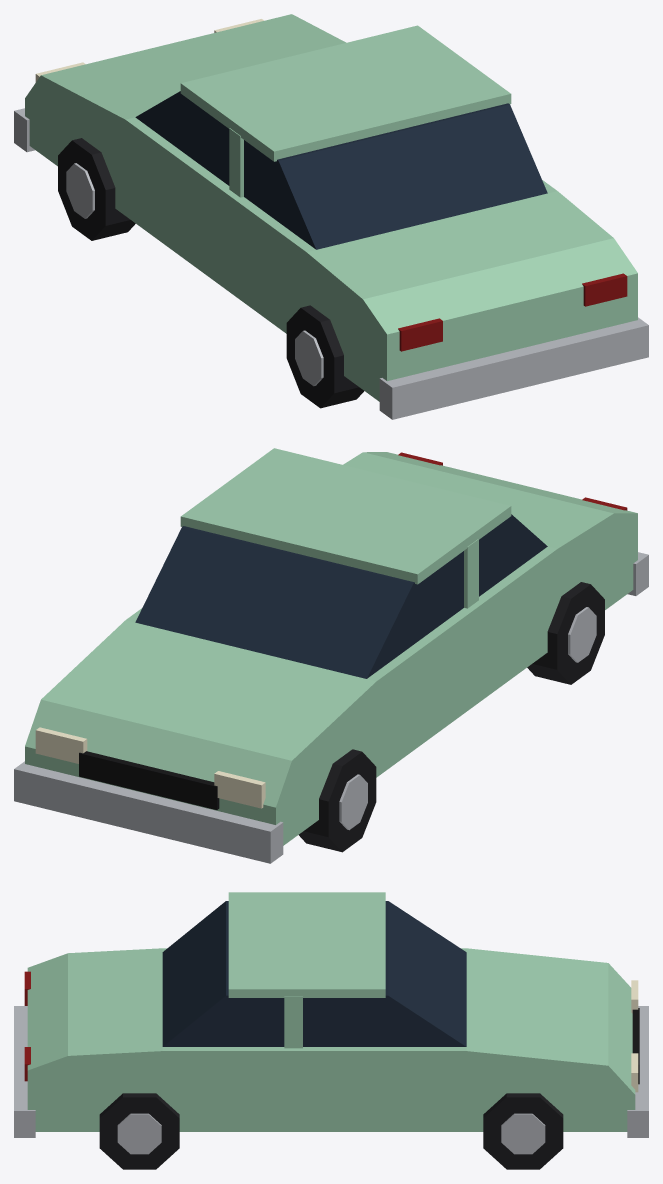
Rendered from CarSedanMint.obj.
The picture shows the model from 3 angles, top to bottom: view 1: azimuth 30°, elevation 25°; view 2: azimuth 150°, elevation 25°; view 3: azimuth 270°, elevation 25°; orthographic projection. The views are drawn at different scales.
Visible parts, largest first — view 1: CarSedanMint; view 2: CarSedanMint; view 3: CarSedanMint.
Part boxes in pixels (x1,y1,x2,y2): CarSedanMint: (14, 14, 648, 419); CarSedanMint: (14, 448, 648, 863); CarSedanMint: (14, 892, 648, 1169).
Size of the model in its own units: 1.97 by 1.42 by 4.7.
1 material, 1 textured.
